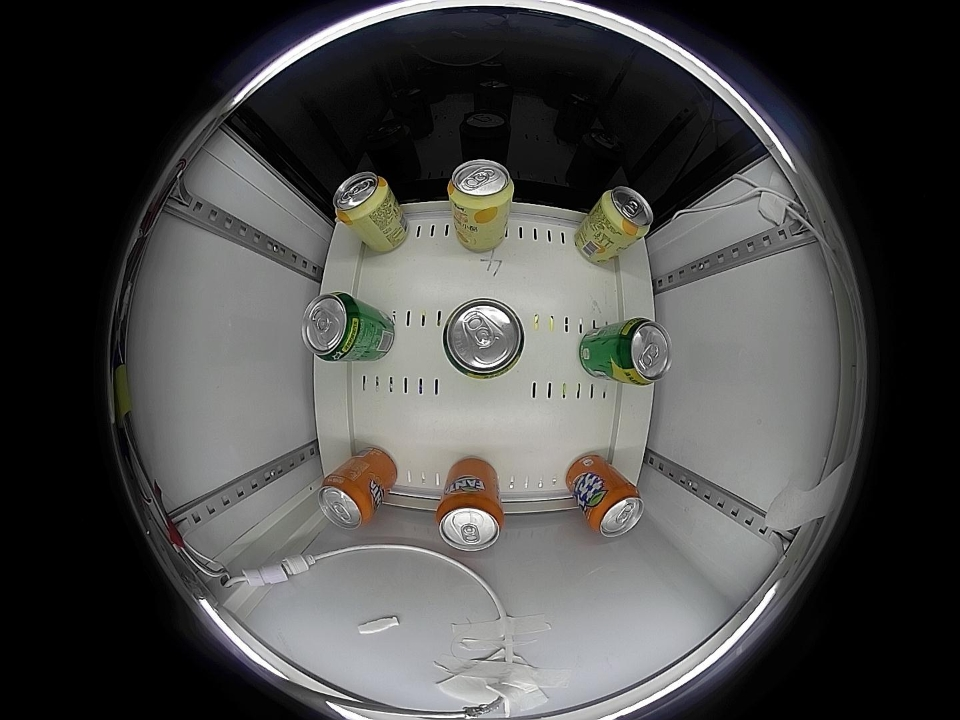fenda: (436, 492, 504, 553), (318, 474, 376, 530), (588, 484, 645, 538)
mangguoxiaolao: (447, 159, 515, 214), (598, 186, 654, 240), (333, 172, 391, 224)
xuebi2: (441, 296, 527, 378), (301, 292, 367, 361), (608, 318, 672, 385)
